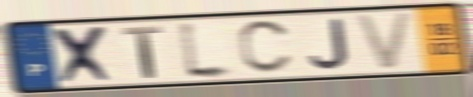C: (236, 18, 295, 76)
J: (307, 17, 353, 72)
L: (176, 17, 239, 83)
T: (120, 24, 165, 80)
V: (352, 10, 416, 73)
X: (49, 24, 119, 87)
